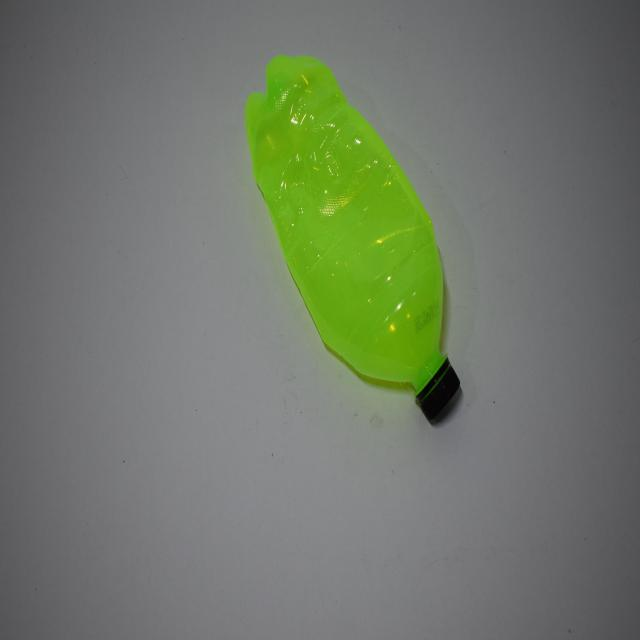bottle: (244, 56, 464, 427)
